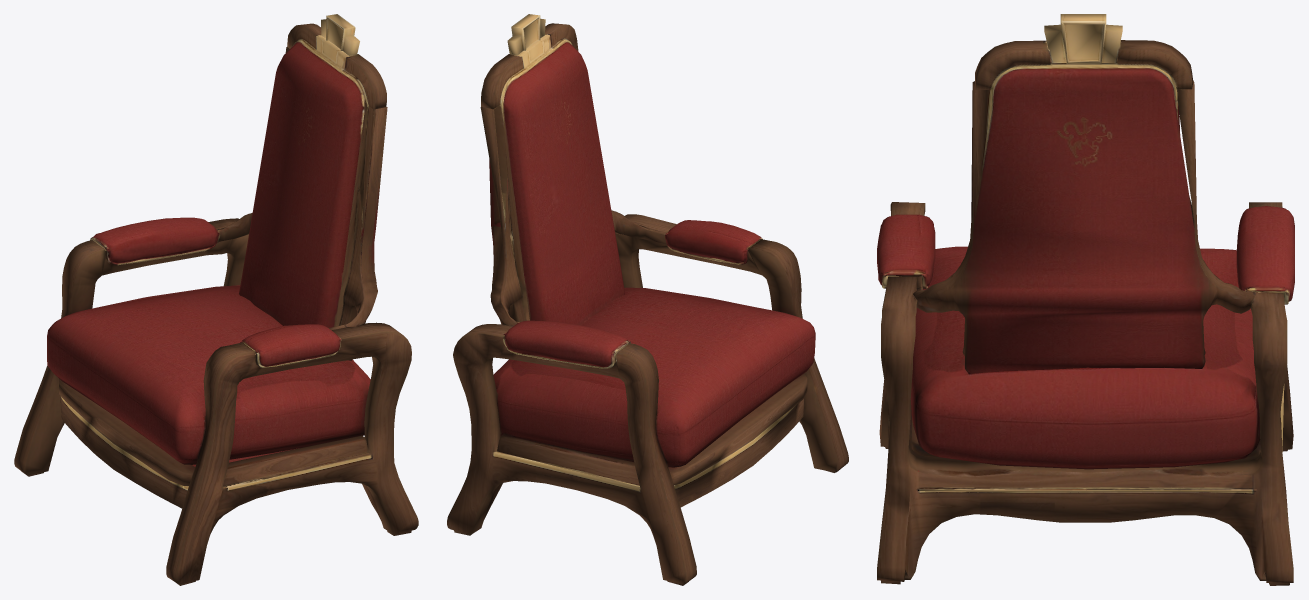
3 views of the same model, side by side, from view 1: azimuth 30°, elevation 25°; view 2: azimuth 150°, elevation 25°; view 3: azimuth 270°, elevation 25° (orthographic). The views are drawn at different scales.
Parts seen in each view (by area): view 1: tripo_node_3af80040-3c2d-4f10-80d2-c31c2d8da73c; view 2: tripo_node_3af80040-3c2d-4f10-80d2-c31c2d8da73c; view 3: tripo_node_3af80040-3c2d-4f10-80d2-c31c2d8da73c.
Boxes of the visible parts, bbox=[...] form: tripo_node_3af80040-3c2d-4f10-80d2-c31c2d8da73c: bbox=[14, 14, 418, 585]; tripo_node_3af80040-3c2d-4f10-80d2-c31c2d8da73c: bbox=[447, 14, 848, 585]; tripo_node_3af80040-3c2d-4f10-80d2-c31c2d8da73c: bbox=[877, 14, 1294, 585].
Bounding box in the file's own units: 0.5801 × 0.998 × 0.6582.
Materials: 1 (1 with a texture image).
